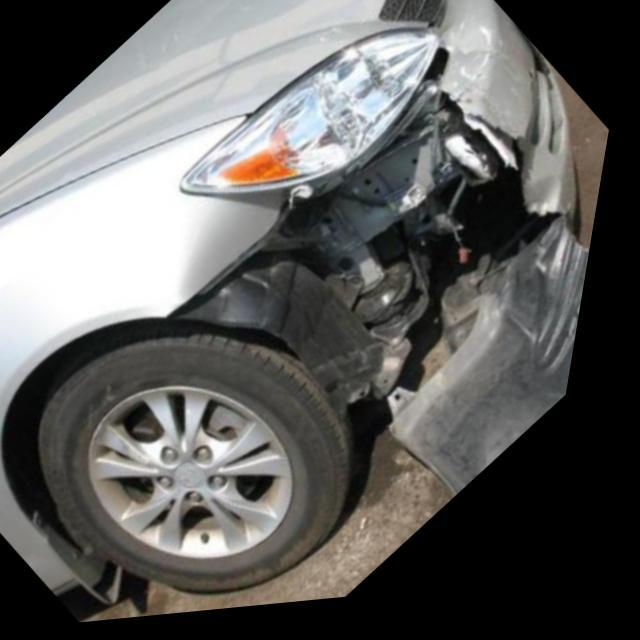no part: (174, 57, 600, 506)
